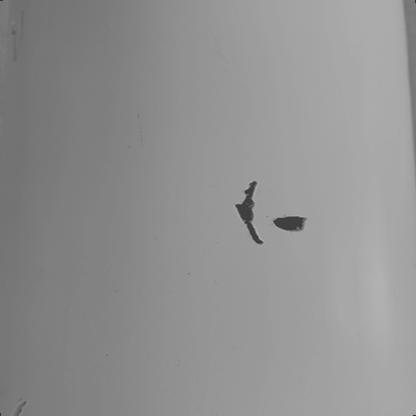kongdong: (234, 179, 264, 245), (274, 213, 305, 233)
sunshang: (3, 399, 30, 416)
